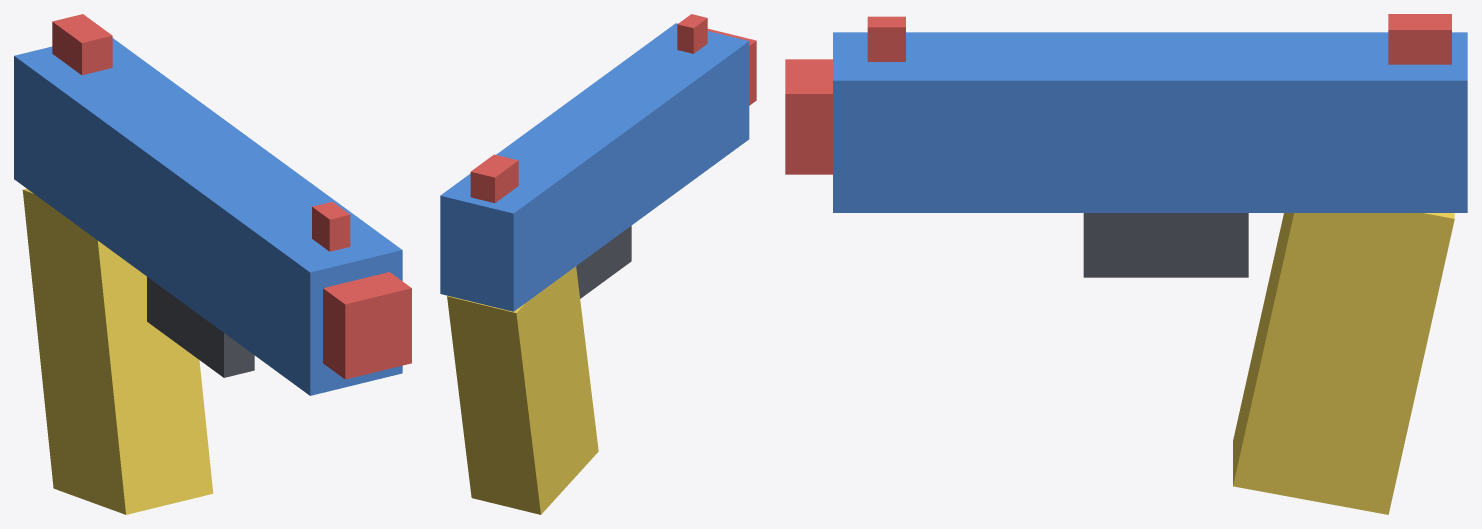
File: gun_handgun.glb
The picture shows the model from 3 angles, left to right: view 1: azimuth 30°, elevation 25°; view 2: azimuth 150°, elevation 25°; view 3: azimuth 270°, elevation 25°; orthographic projection. The views are drawn at different scales.
Parts seen in each view (by area): view 1: gun_handgun; view 2: gun_handgun; view 3: gun_handgun.
Part boxes in pixels (left/top/right/bottom): gun_handgun: left=14, top=14, right=411, bottom=514; gun_handgun: left=440, top=14, right=756, bottom=514; gun_handgun: left=785, top=14, right=1467, bottom=514.
Bounding box in the file's own units: 0.036 × 0.1634 × 0.215.
